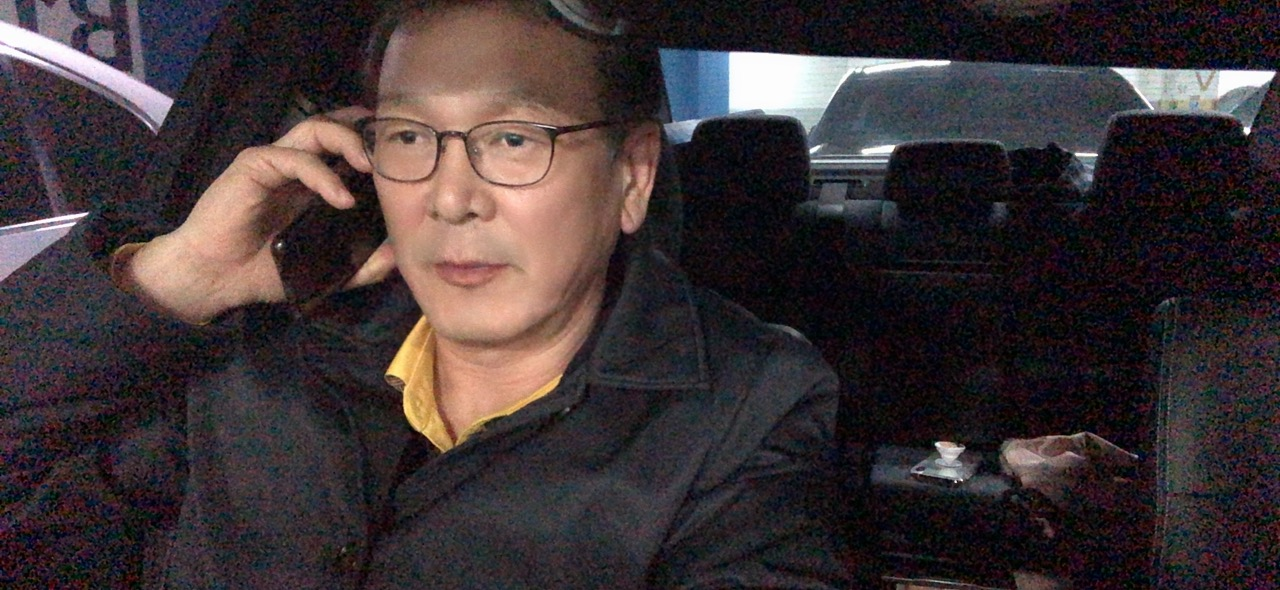phone: (10, 2, 840, 590)
